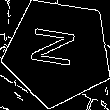N_E: (30, 28, 86, 76)
